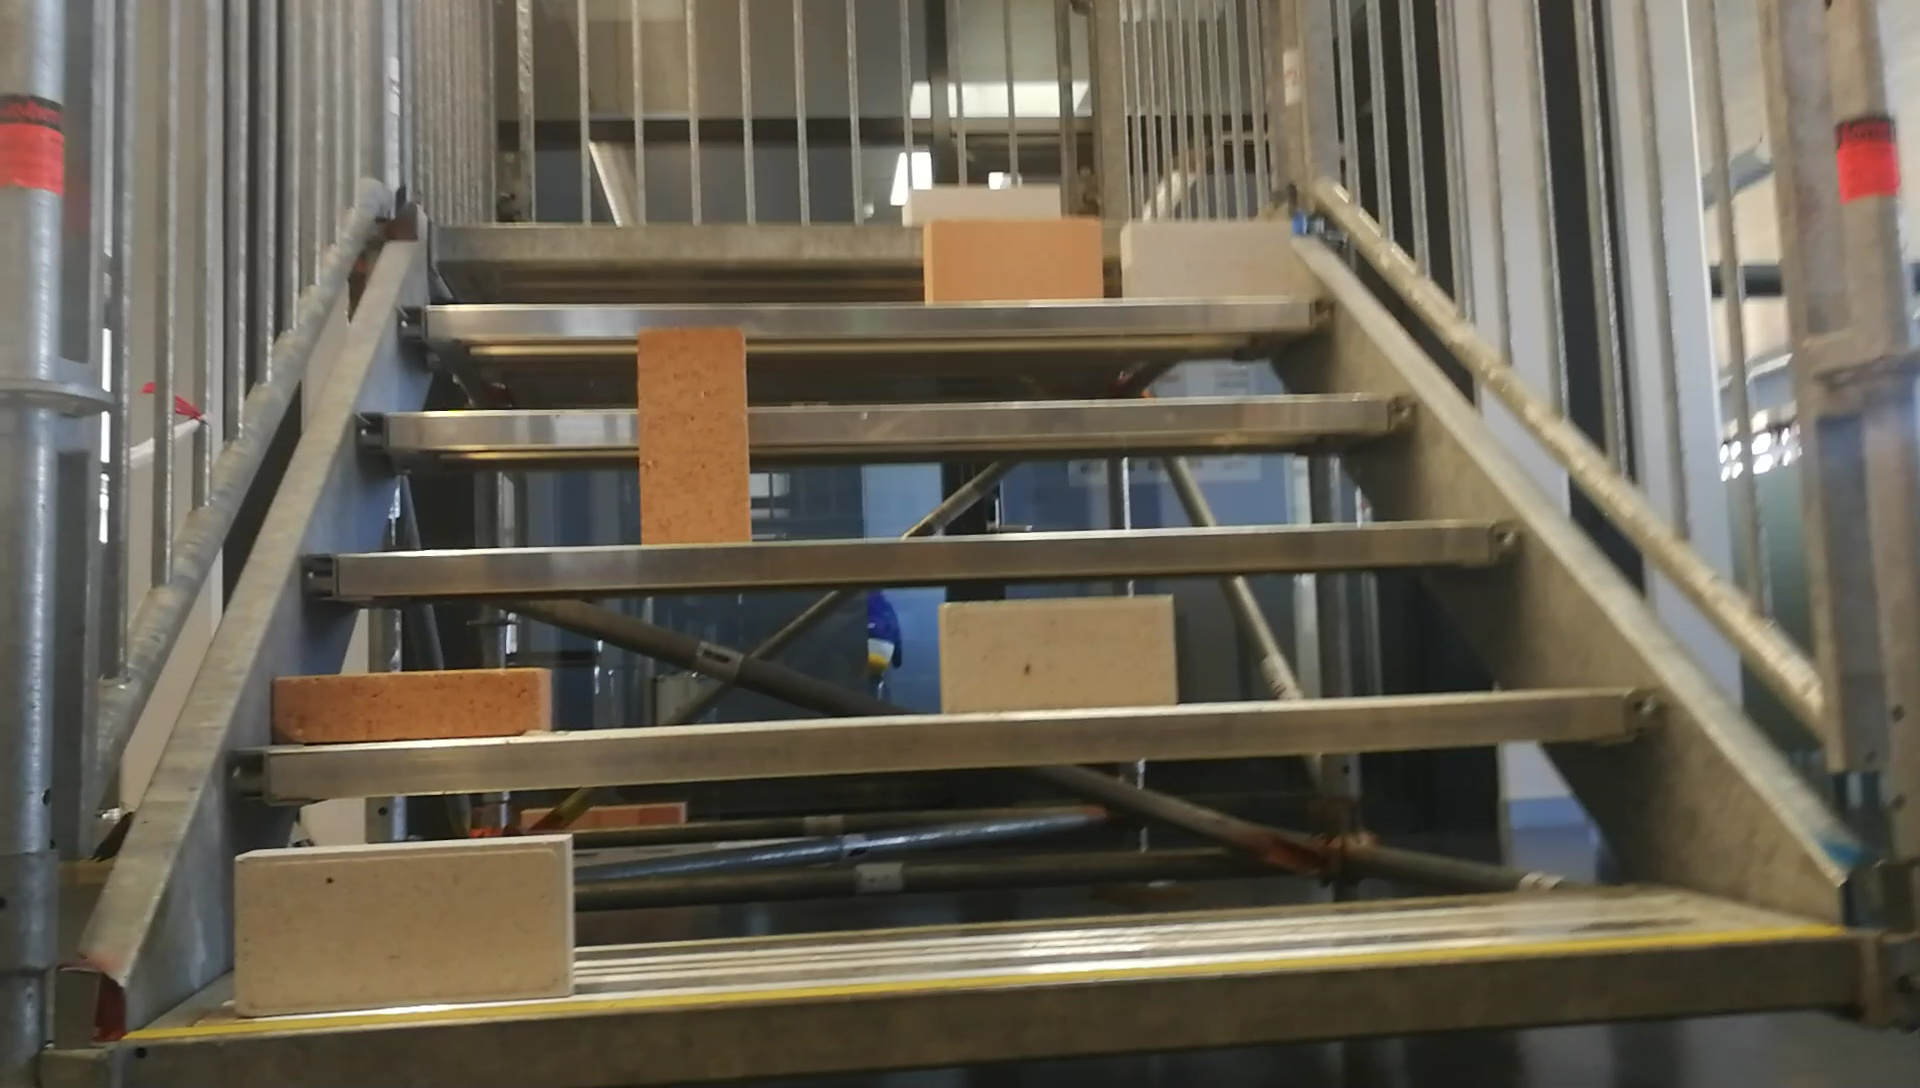brick: (233, 835, 570, 1010), (943, 593, 1168, 711), (641, 327, 750, 543), (273, 669, 547, 742), (926, 218, 1102, 295), (1122, 220, 1288, 295), (901, 189, 1058, 220)
edge: (123, 938, 1865, 1079)
steps: (112, 178, 1887, 1088)
